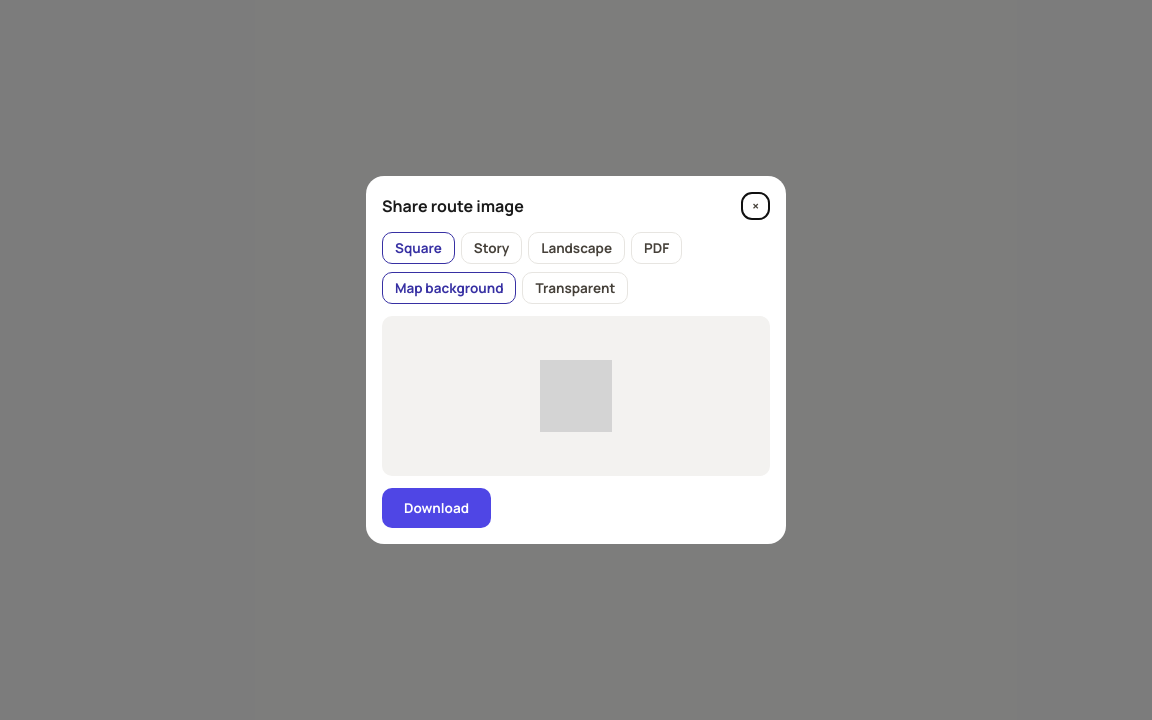
Test: ShareImageModal › allows retrying after a failed PDF render
Expected: the button "Download" is enabled, [382,488,491,528]
Click the button "PDF": (657, 248) [631,232,682,264]
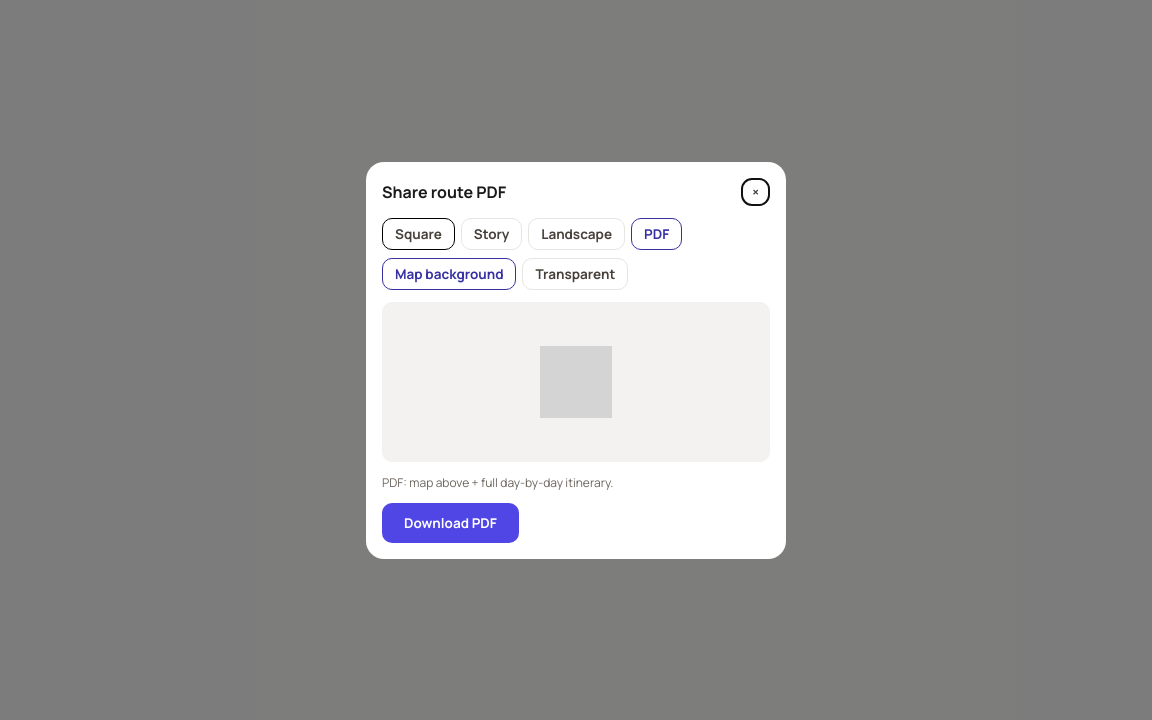
Click the button "Download PDF": (450, 522) [382,502,519,542]
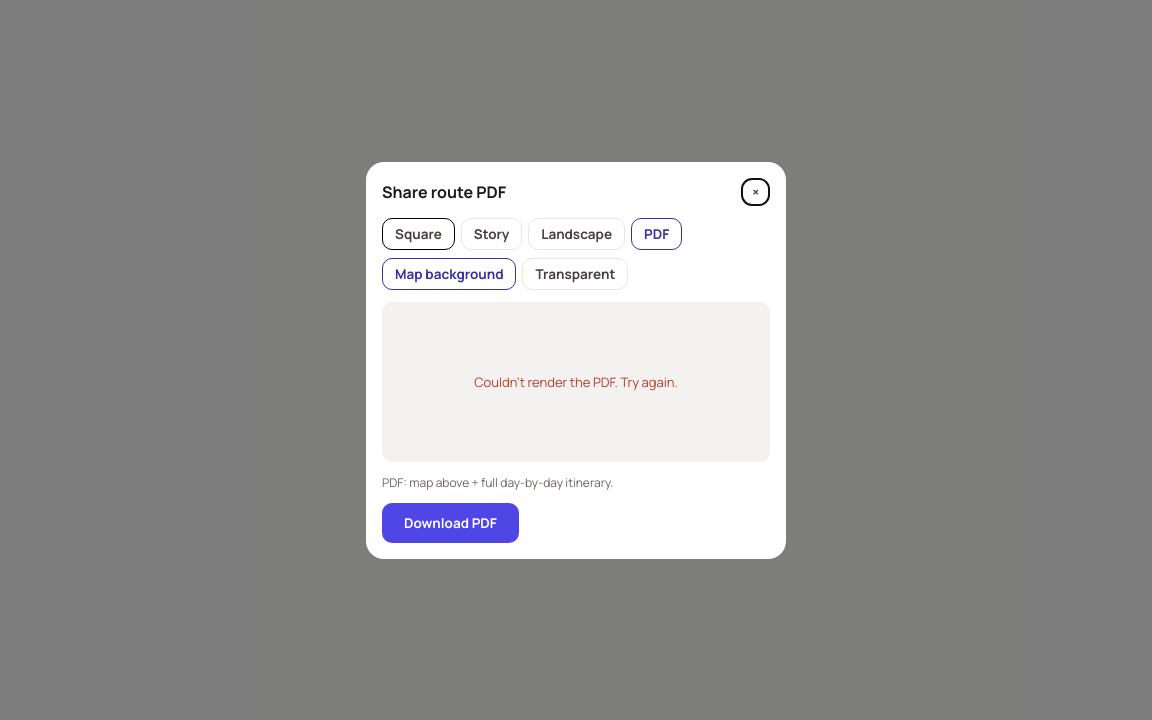
Expected: the text "Couldn't render the PDF. Try again." is shown, [474,372,678,390]
